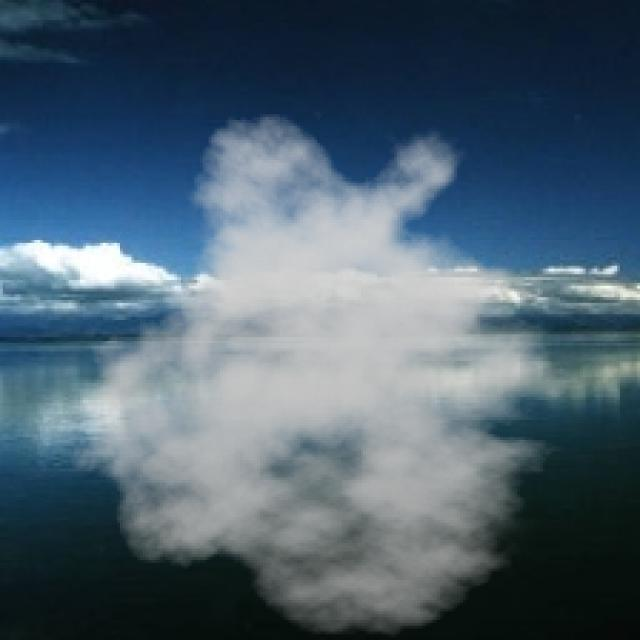Smoke: (57, 112, 606, 638)
